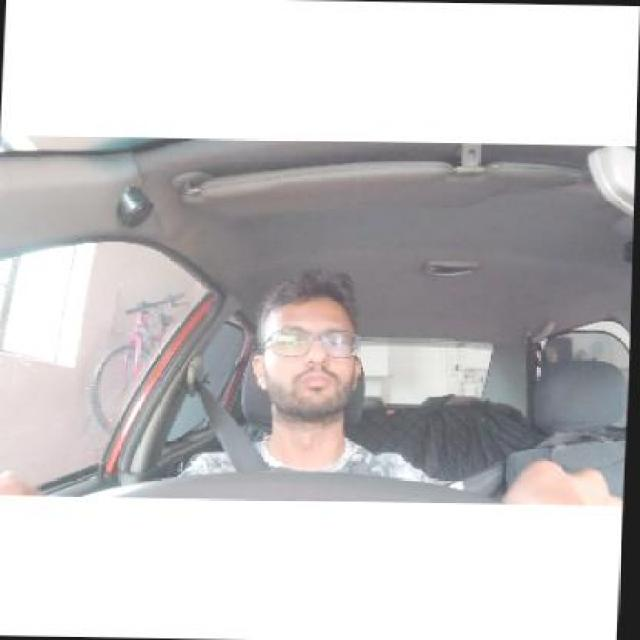person: (256, 274, 365, 422)
